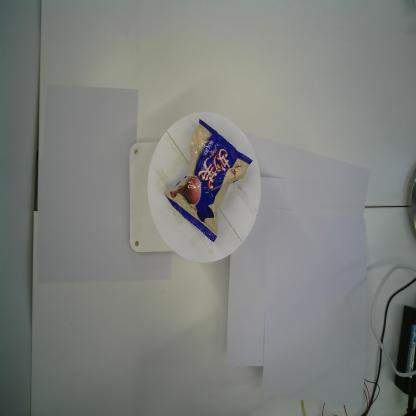Dessert: (162, 119, 254, 242)
